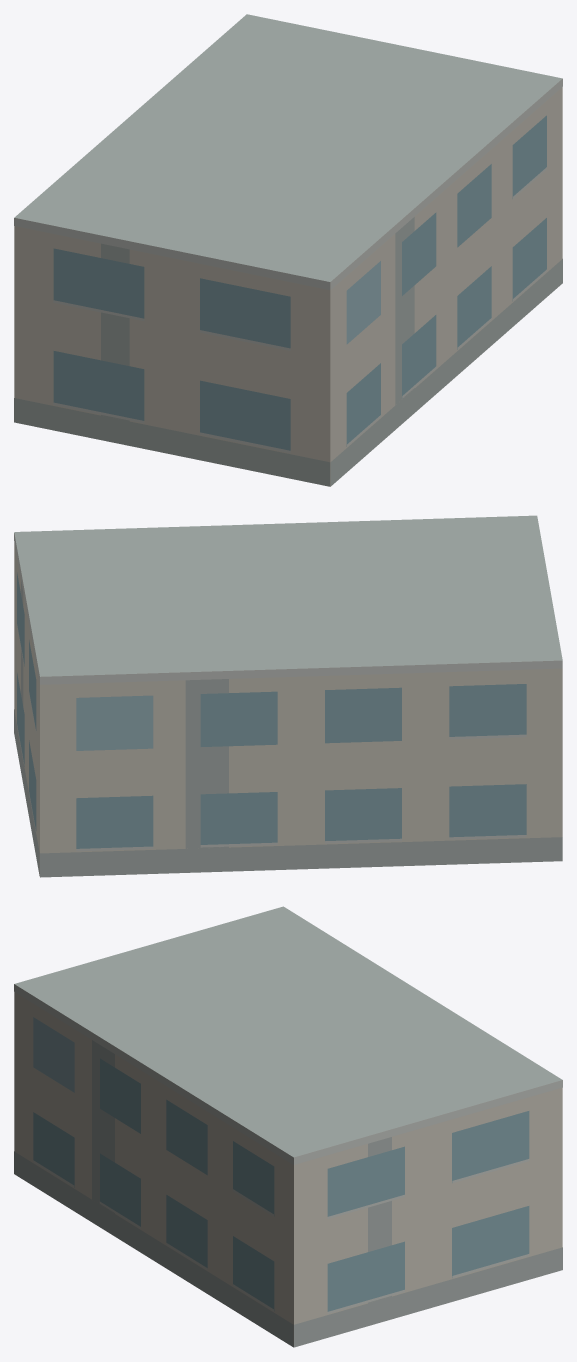
Rendered from residential-1c422442-ad2a-48d2-9670-a9b0d7ca11f5.glb.
3 views of the same model, one above another, from view 1: azimuth 30°, elevation 25°; view 2: azimuth 150°, elevation 25°; view 3: azimuth 270°, elevation 25° (orthographic). The views are drawn at different scales.
Visible parts, largest first — view 1: residential-1c422442-ad2a-48d2-9670-a9b0d7ca11f5.tmp; view 2: residential-1c422442-ad2a-48d2-9670-a9b0d7ca11f5.tmp; view 3: residential-1c422442-ad2a-48d2-9670-a9b0d7ca11f5.tmp.
Part boxes in pixels (x1=…): residential-1c422442-ad2a-48d2-9670-a9b0d7ca11f5.tmp: x1=14, y1=14, x2=562, y2=486; residential-1c422442-ad2a-48d2-9670-a9b0d7ca11f5.tmp: x1=14, y1=515, x2=562, y2=877; residential-1c422442-ad2a-48d2-9670-a9b0d7ca11f5.tmp: x1=14, y1=906, x2=562, y2=1347.
Bounding box in the file's own units: 17.3 × 6.1 × 15.97.
